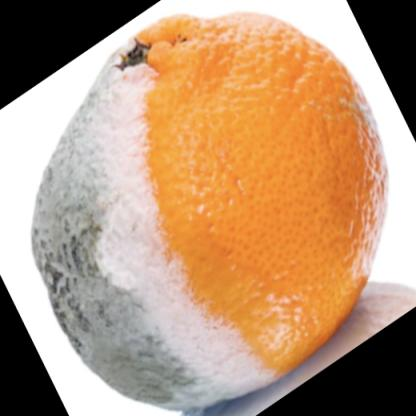rotten: (34, 16, 389, 412)
